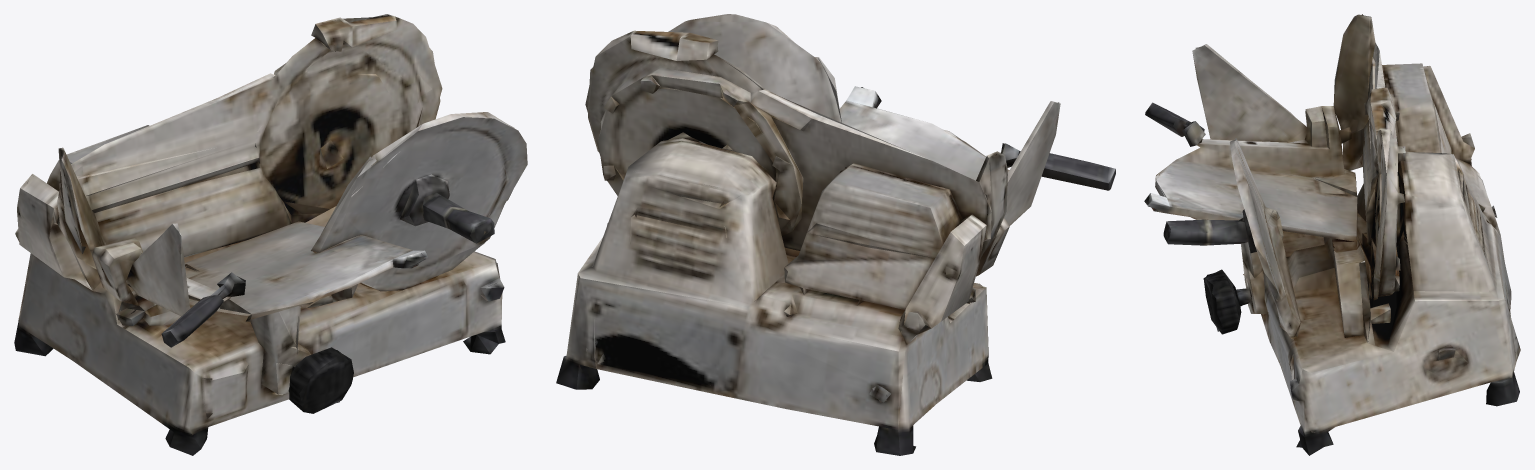
Rendered from p7-meat-slicer.glb.
3 renders of one model, left to right at view 1: azimuth 30°, elevation 25°; view 2: azimuth 150°, elevation 25°; view 3: azimuth 270°, elevation 25°, orthographic. The views are drawn at different scales.
Parts seen in each view (by area): view 1: p7-meat-slicer; view 2: p7-meat-slicer; view 3: p7-meat-slicer.
Part boxes in pixels (bbox=[...]): p7-meat-slicer: bbox=[14, 14, 527, 455]; p7-meat-slicer: bbox=[556, 14, 1115, 455]; p7-meat-slicer: bbox=[1144, 14, 1520, 455].
Size of the model in its own units: 0.6 by 0.45 by 0.5.
Materials: 1 (1 with a texture image).
